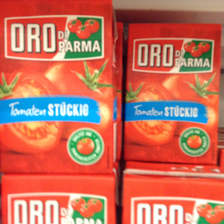tomato_sauce: (1, 1, 115, 174), (123, 20, 224, 166)
